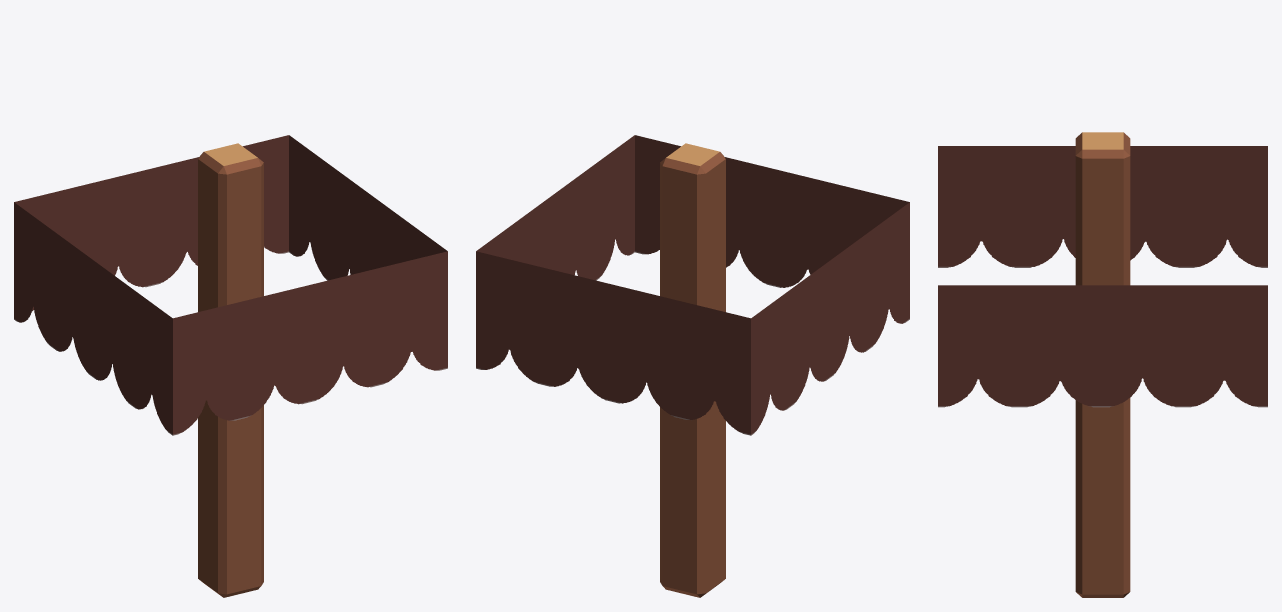
The model's file is Tree 3.fbx.
3 renders of one model, left to right at view 1: azimuth 30°, elevation 25°; view 2: azimuth 150°, elevation 25°; view 3: azimuth 270°, elevation 25°, orthographic. The views are drawn at different scales.
Visible parts, largest first — view 1: Tree_Crown_1, Trunk; view 2: Tree_Crown_1, Trunk; view 3: Tree_Crown_1, Trunk.
Part boxes in pixels (x1=…): Tree_Crown_1: x1=14, y1=135, x2=447, y2=435; Trunk: x1=198, y1=143, x2=263, y2=597; Tree_Crown_1: x1=476, y1=135, x2=909, y2=435; Trunk: x1=660, y1=143, x2=725, y2=597; Tree_Crown_1: x1=938, y1=146, x2=1267, y2=407; Trunk: x1=1075, y1=132, x2=1130, y2=597.
Size of the model in its own units: 1.2 by 2.1 by 1.2.
